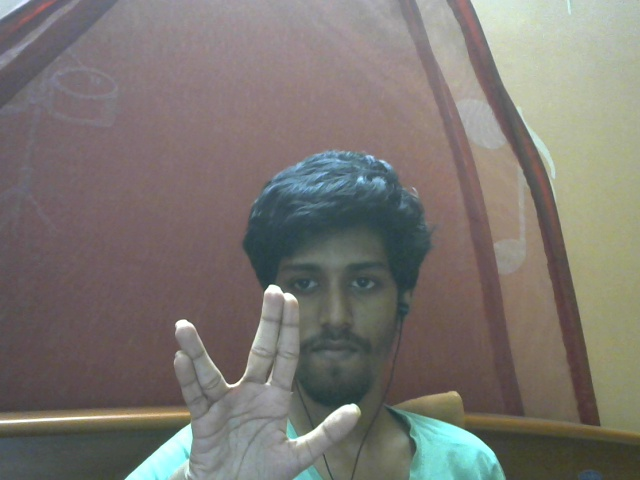LiveLong: (172, 284, 359, 478)
